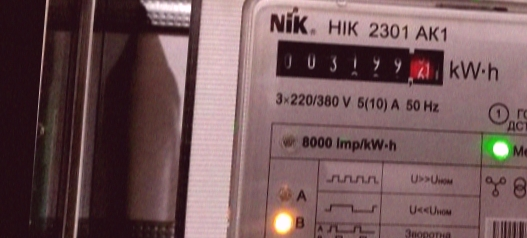0: (306, 51, 319, 71), (283, 51, 294, 69)
1: (350, 52, 361, 70)
3: (328, 53, 340, 74)
6: (416, 65, 427, 79)
9: (371, 52, 383, 73), (393, 56, 405, 75)
screen: (268, 28, 454, 96)
